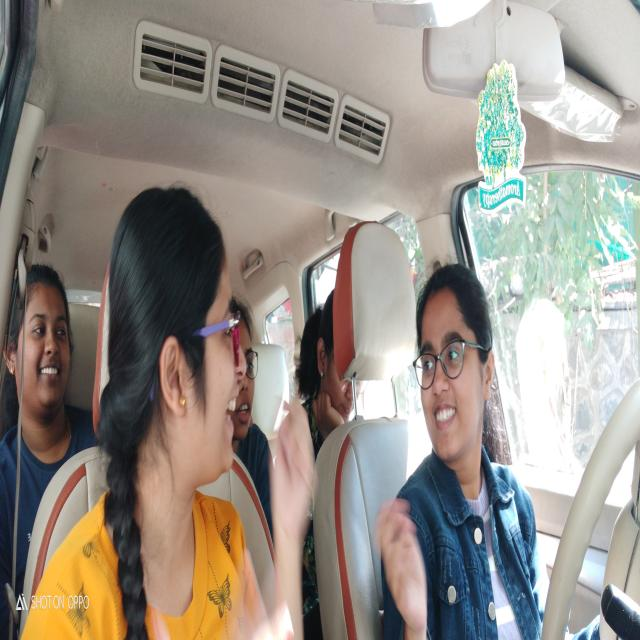LeftRight: (411, 248, 498, 464)
person: (89, 180, 249, 508), (13, 253, 78, 449), (292, 274, 370, 434), (230, 276, 267, 460)
